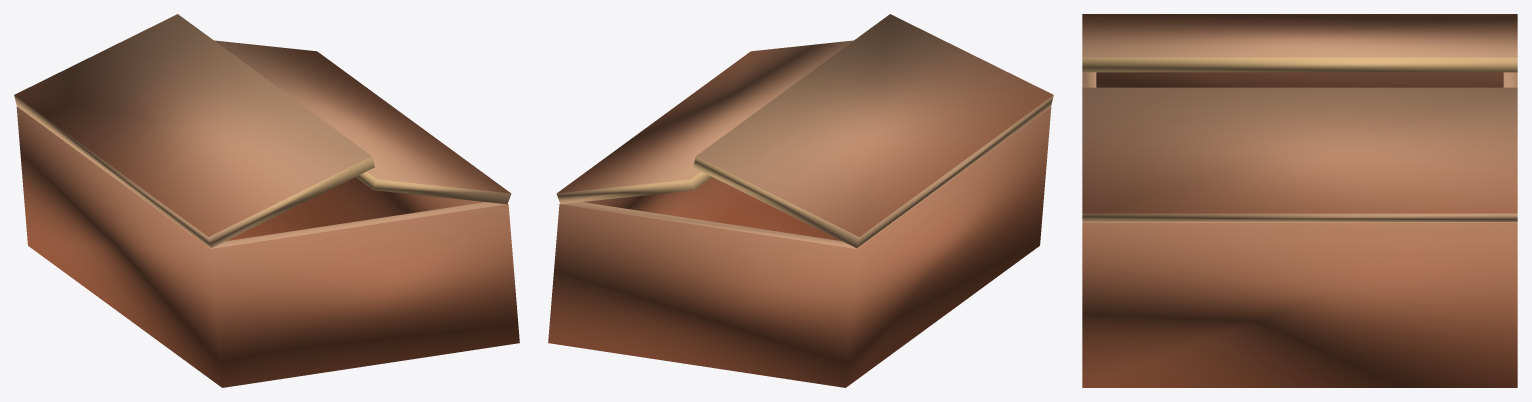
File: paper_waste.glb
The picture shows the model from 3 angles, left to right: view 1: azimuth 30°, elevation 25°; view 2: azimuth 150°, elevation 25°; view 3: azimuth 270°, elevation 25°; orthographic projection. The views are drawn at different scales.
Parts seen in each view (by area): view 1: 869; view 2: 869; view 3: 869.
Boxes of the visible parts, left/top/right/bottom form: 869: left=14, top=14, right=519, bottom=387; 869: left=548, top=14, right=1053, bottom=387; 869: left=1082, top=14, right=1517, bottom=387.
Size of the model in its own units: 1.85 by 1.27 by 2.
Materials: 1 (1 with a texture image).
